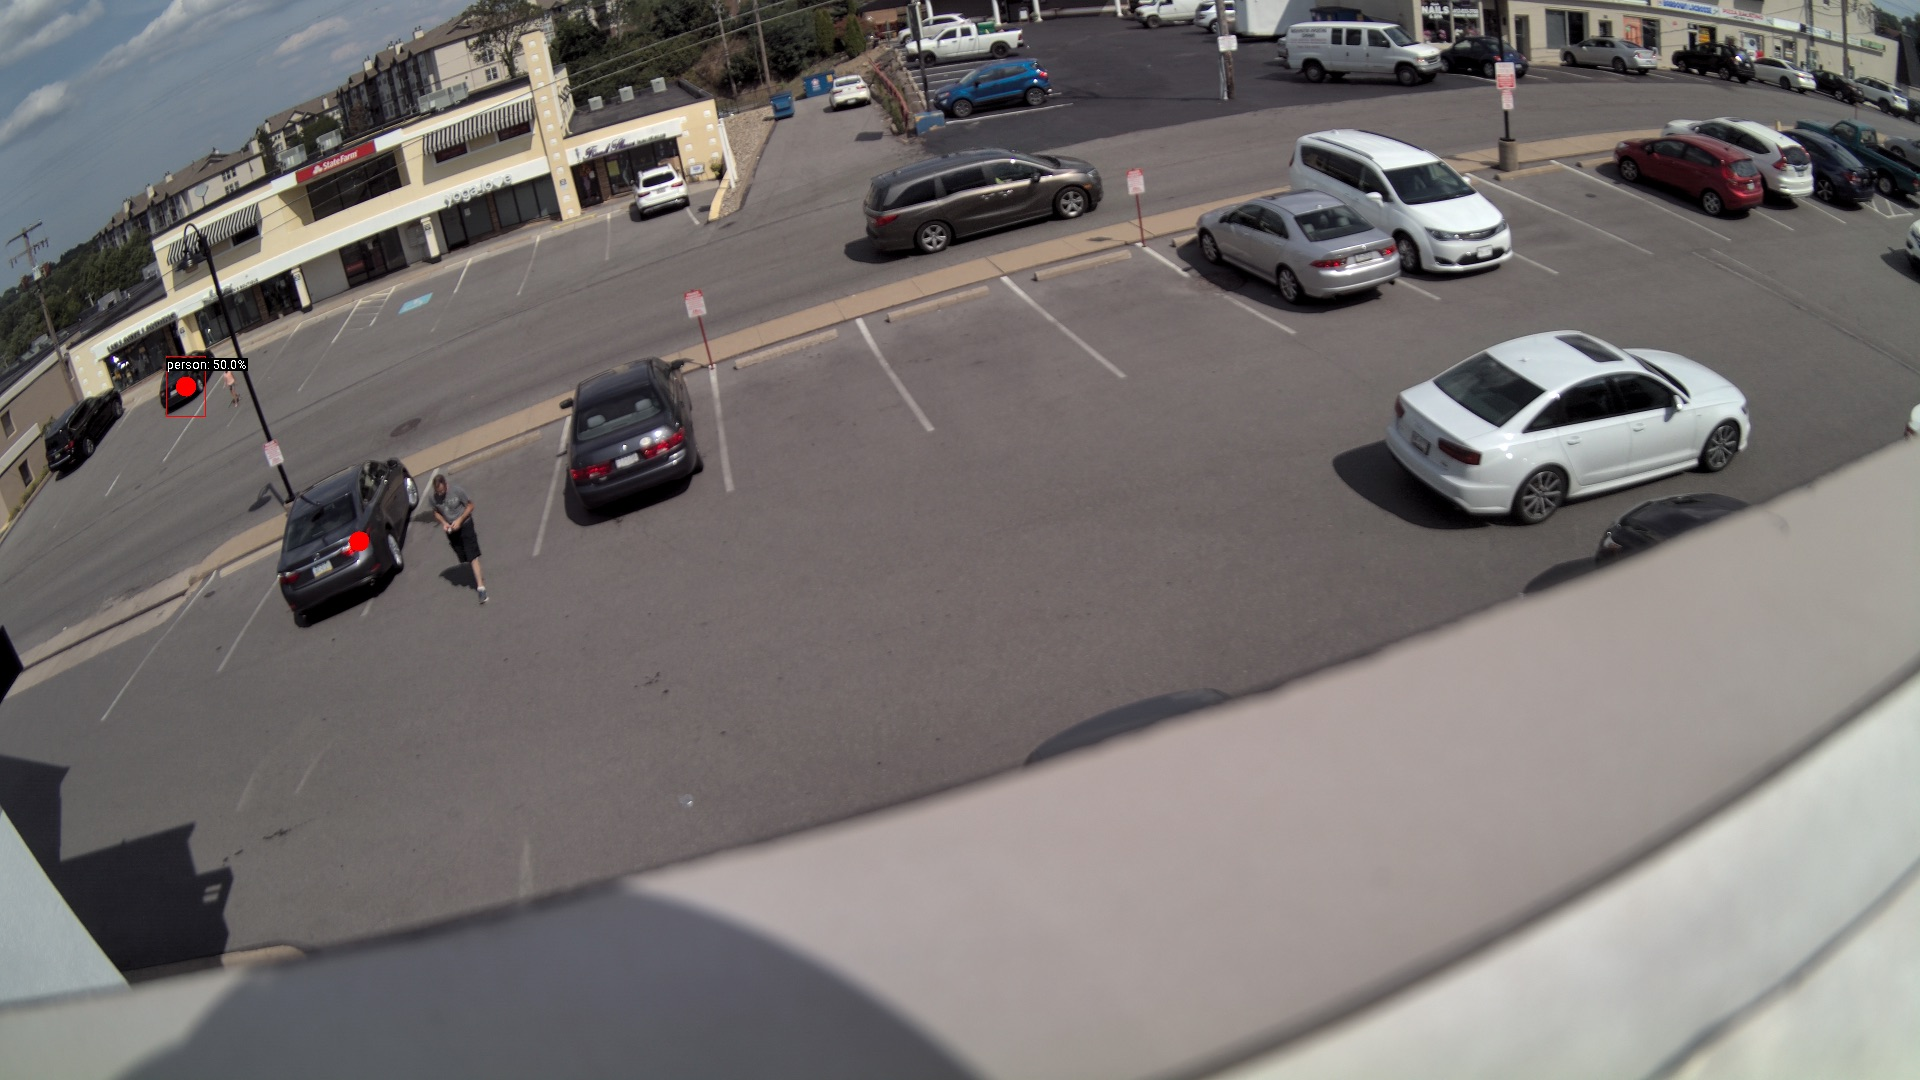person: (429, 474, 495, 607), (221, 368, 247, 409)
